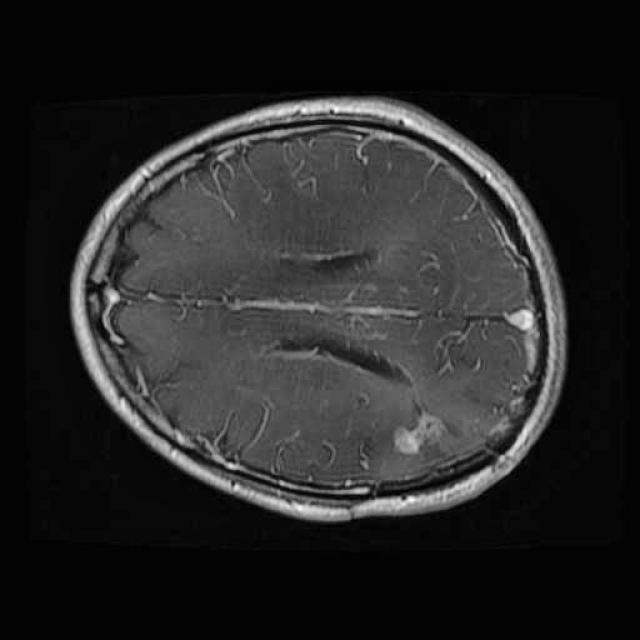Non-Tumor: (385, 405, 461, 461)
